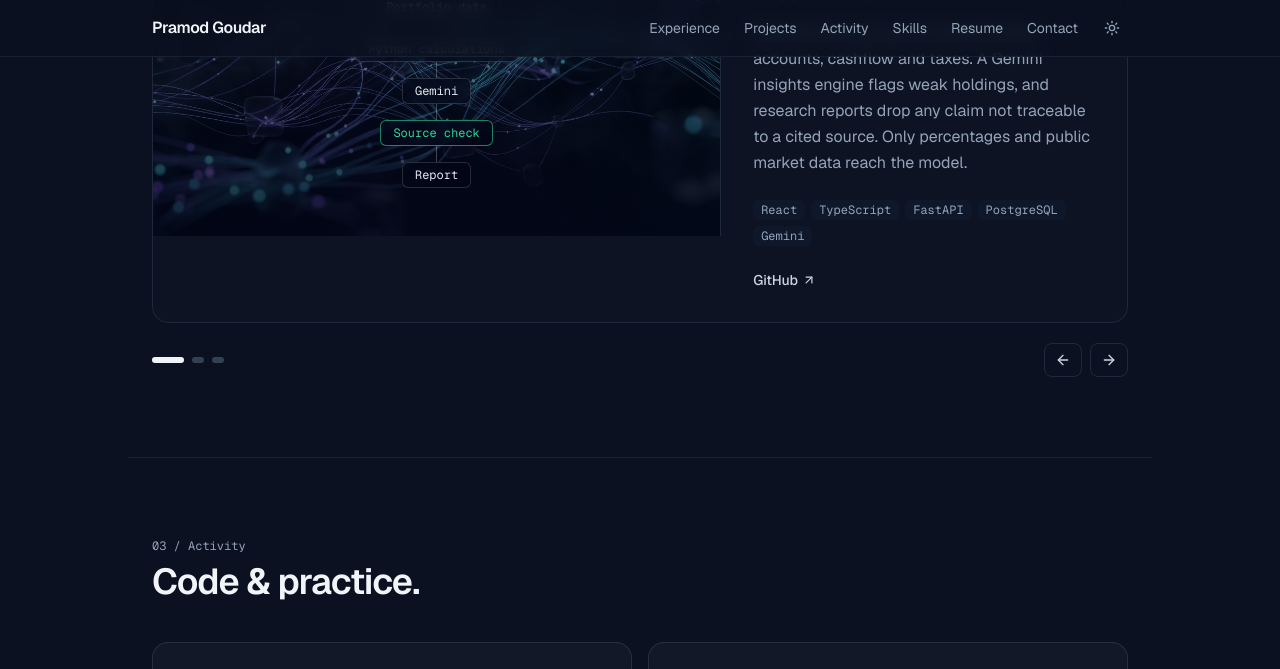
Scenario: project carousel moves between slides
(page scrolled)
Click the button named "Next slide" at (1109,360), box [1090, 343, 1128, 377]
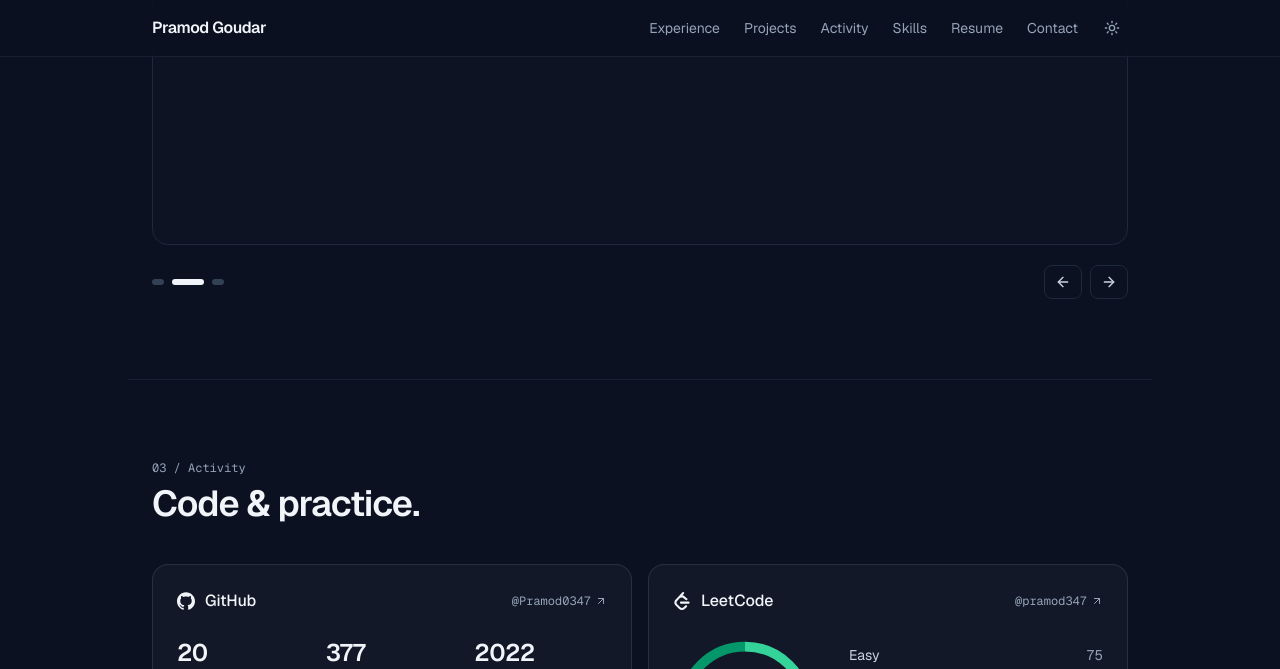
Now the button named "Go to ProcureFlow" is marked as current, box [172, 279, 204, 285]
Click the button named "Go to NewsRAG" at (218,282), box [212, 279, 224, 285]
(page scrolled)
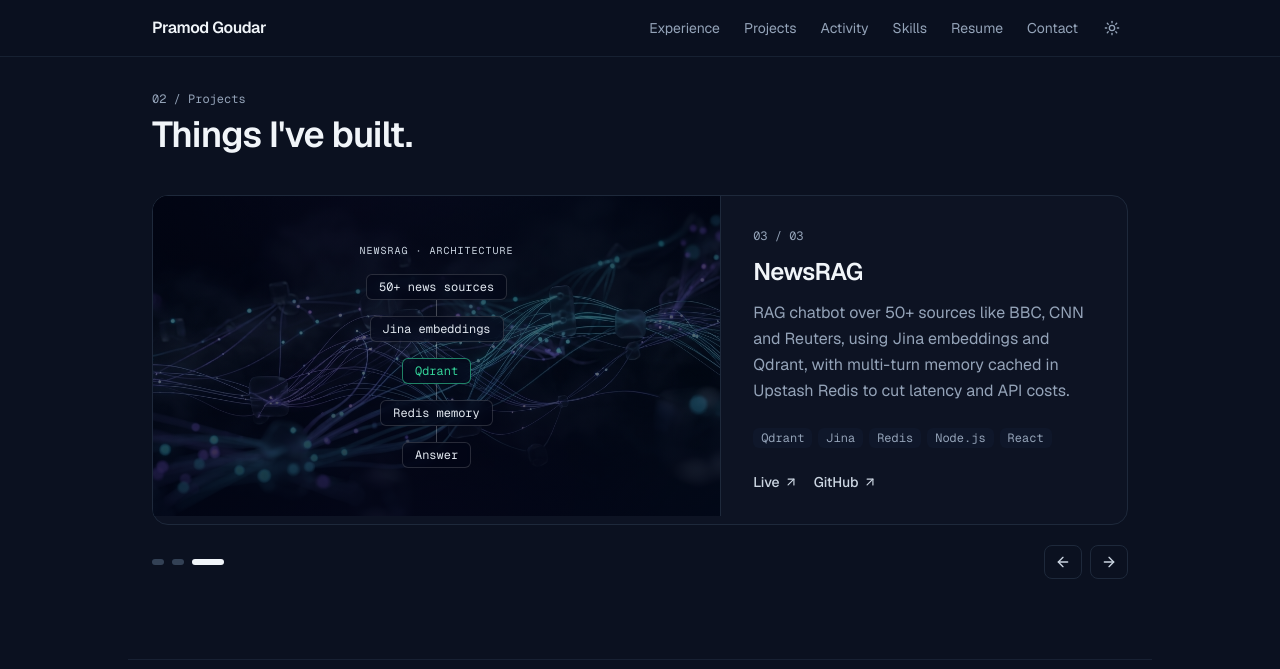
Now the element named "Slide 3 of 3" shows "NewsRAG", box [360, 244, 409, 257]
